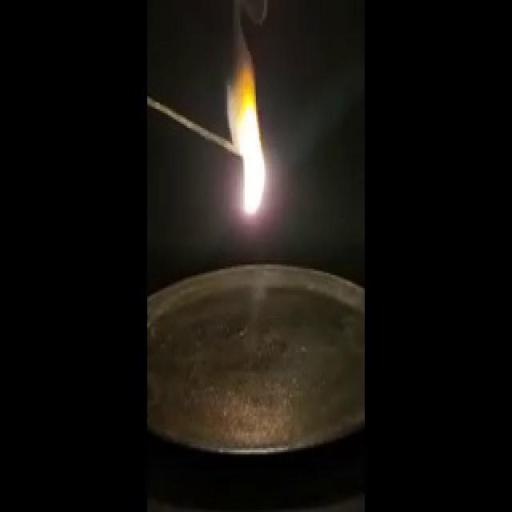smoke: (220, 46, 274, 232)
